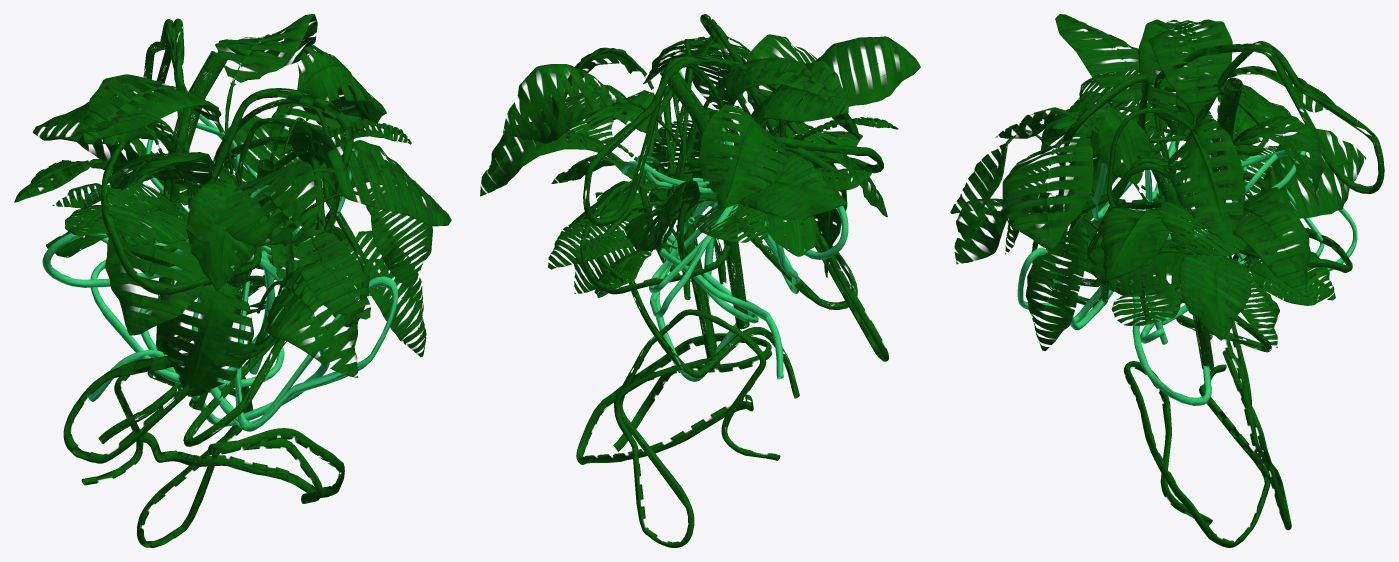
File: worldtreeoneleaves.glb
3 views of the same model, side by side, from view 1: azimuth 30°, elevation 25°; view 2: azimuth 150°, elevation 25°; view 3: azimuth 270°, elevation 25° (orthographic). The views are drawn at different scales.
Parts seen in each view (by area): view 1: leaf_010_mesh.005; view 2: leaf_010_mesh.005; view 3: leaf_010_mesh.005.
Part boxes in pixels (bbox=[...]): leaf_010_mesh.005: bbox=[14, 14, 451, 547]; leaf_010_mesh.005: bbox=[480, 14, 920, 547]; leaf_010_mesh.005: bbox=[950, 14, 1384, 547].
Size of the model in its own units: 1.32 by 1.78 by 1.45.
Materials: 5 (5 with a texture image).
